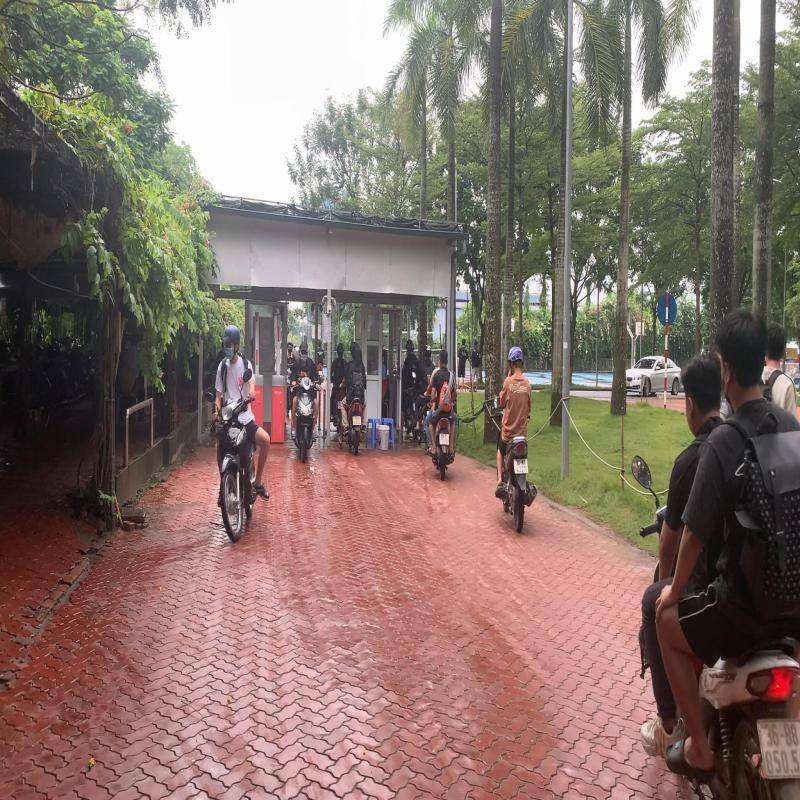nohelmet: (715, 306, 768, 402), (680, 350, 726, 424), (439, 347, 450, 366)
